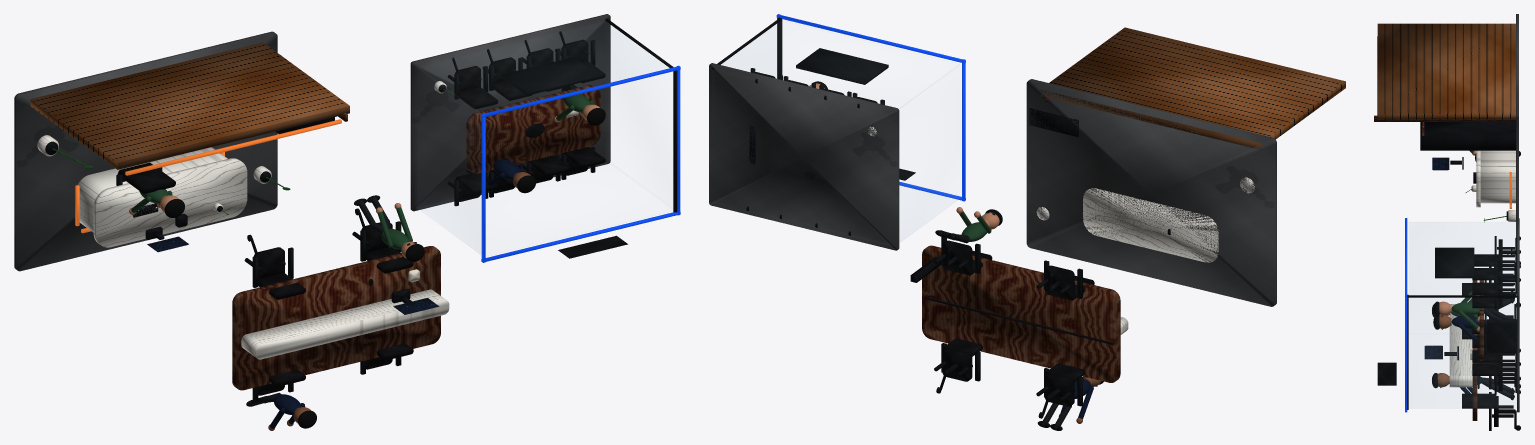
The model's file is SCENE_VERTICAL_SLICE_HERO_V4_001.glb.
The picture shows the model from 3 angles, left to right: view 1: azimuth 30°, elevation 25°; view 2: azimuth 150°, elevation 25°; view 3: azimuth 270°, elevation 25°; orthographic projection. The views are drawn at different scales.
Visible parts, largest first — view 1: rec_back_wall_base, rec_reception_floor, work_desk_cluster_top, meet_room_floor, rec_curved_reception_desk_top, meet_meeting_top, work_central_planter, meet_tv_wall_frame, rec_curved_reception_desk_base, rec_wall_top_warm_led, rec_reception_chair_back, meet_neon_back (+7 smaller); view 2: rec_reception_floor, meet_room_floor, rec_back_wall_base, work_desk_cluster_top, rec_curved_reception_desk_base, meet_tv_wall_frame, rec_shelf_frame, meet_neon_back, work_taskchair_2_seat, work_taskchair_3_seat, work_taskchair_1_seat, work_taskchair_0_seat; view 3: rec_back_wall_base, rec_shelf_frame, rec_curved_reception_desk_base, work_central_planter, meet_tv_wall_frame, meet_meeting_leg, rec_reception_floor, meet_room_floor, work_taskchair_1_back, meet_floating_label_back, rec_individual_wood_slat, meet_meeting_chair_3_back (+18 smaller).
Part boxes in pixels (bbox=[...]): rec_back_wall_base: bbox=[30, 42, 349, 169]; rec_reception_floor: bbox=[14, 31, 277, 271]; work_desk_cluster_top: bbox=[232, 246, 440, 390]; meet_room_floor: bbox=[410, 14, 610, 211]; rec_curved_reception_desk_top: bbox=[93, 158, 247, 247]; meet_meeting_top: bbox=[466, 85, 600, 173]; work_central_planter: bbox=[241, 289, 449, 359]; meet_tv_wall_frame: bbox=[502, 57, 599, 95]; rec_curved_reception_desk_base: bbox=[78, 147, 227, 232]; rec_wall_top_warm_led: bbox=[125, 119, 341, 175]; rec_reception_chair_back: bbox=[118, 162, 175, 193]; meet_neon_back: bbox=[481, 66, 680, 117]; rec_reception_floor: bbox=[1026, 79, 1276, 306]; meet_room_floor: bbox=[709, 63, 899, 250]; rec_back_wall_base: bbox=[1040, 27, 1345, 149]; work_desk_cluster_top: bbox=[922, 245, 1120, 382]; rec_curved_reception_desk_base: bbox=[1083, 188, 1218, 262]; meet_tv_wall_frame: bbox=[796, 48, 888, 84]; rec_shelf_frame: bbox=[1029, 108, 1078, 137]; meet_neon_back: bbox=[776, 15, 965, 63]; work_taskchair_2_seat: bbox=[1044, 265, 1074, 299]; work_taskchair_3_seat: bbox=[942, 240, 972, 274]; work_taskchair_1_seat: bbox=[942, 349, 972, 381]; work_taskchair_0_seat: bbox=[1044, 374, 1074, 406]; rec_back_wall_base: bbox=[1377, 23, 1515, 119]; rec_shelf_frame: bbox=[1420, 122, 1515, 150]; rec_curved_reception_desk_base: bbox=[1480, 150, 1515, 203]; work_central_planter: bbox=[1449, 304, 1472, 387]; meet_tv_wall_frame: bbox=[1435, 247, 1474, 278]; meet_meeting_leg: bbox=[1487, 319, 1516, 352]; rec_reception_floor: bbox=[1516, 14, 1518, 237]; meet_room_floor: bbox=[1517, 218, 1519, 412]; work_taskchair_1_back: bbox=[1462, 393, 1496, 408]; meet_floating_label_back: bbox=[1377, 362, 1396, 385]; rec_individual_wood_slat: bbox=[1374, 115, 1515, 121]; meet_meeting_chair_3_back: bbox=[1472, 363, 1500, 375].
Bounding box in the file's own units: 7.99 × 4.79 × 2.15.
Materials: 23 (23 with a texture image).
